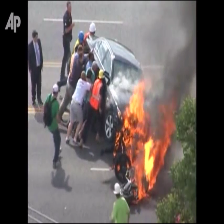fire_h: (121, 77, 178, 199)
fire_l: (113, 130, 120, 156), (126, 162, 129, 169), (116, 164, 120, 169)
